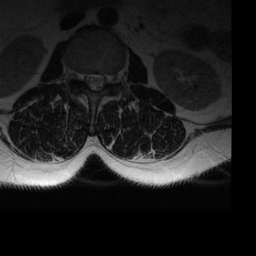CCS_stenosis: (90, 65, 97, 98)
LFS_normal: (105, 66, 113, 87)
LLS_normal: (98, 66, 105, 95)
RFS_normal: (76, 66, 83, 89)
RLS_normal: (83, 66, 90, 90)
